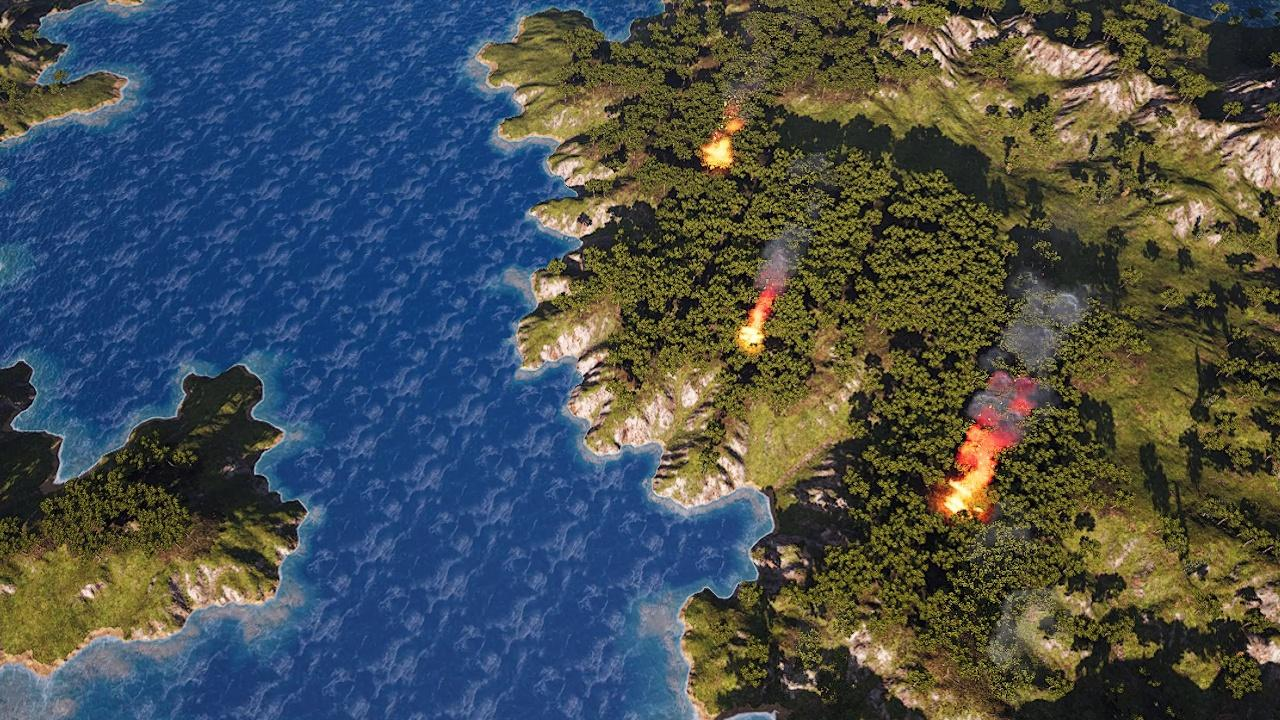fire: (939, 427, 1013, 519), (700, 119, 739, 167), (736, 303, 768, 347)
smoke: (950, 256, 1090, 434), (752, 233, 809, 310)
